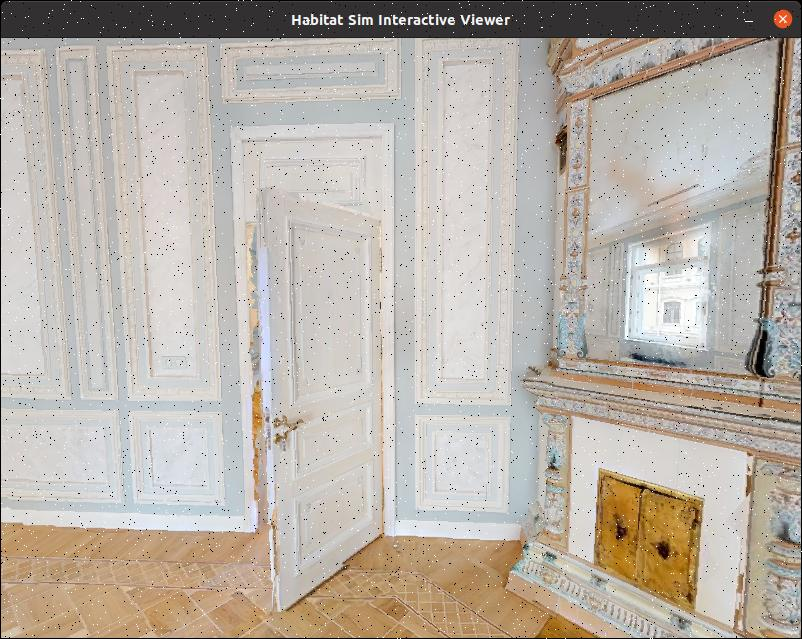door: (251, 179, 397, 619)
